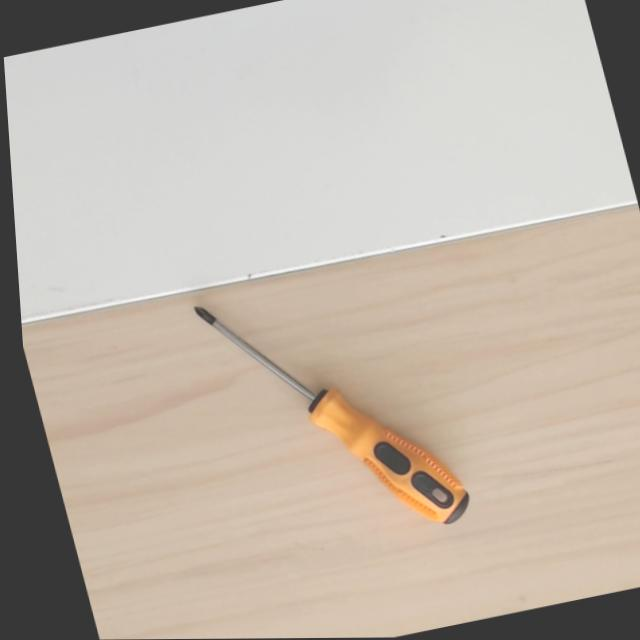Obeng-Besar: (187, 274, 478, 537)
